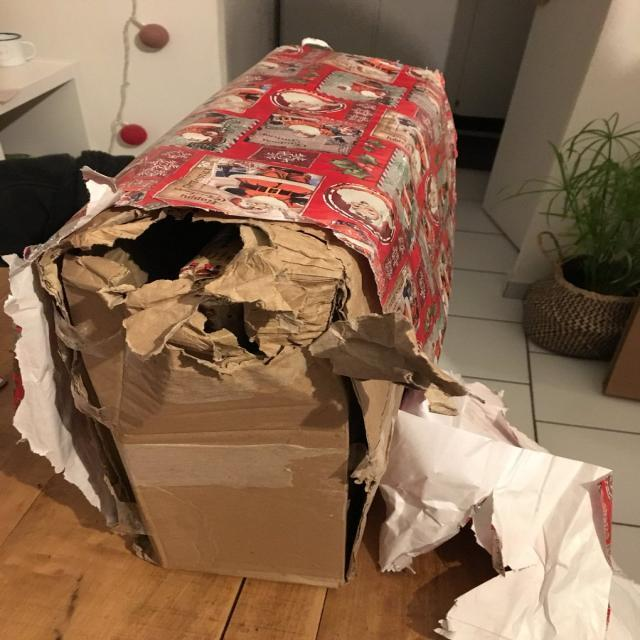damaged: (118, 225, 272, 369)
